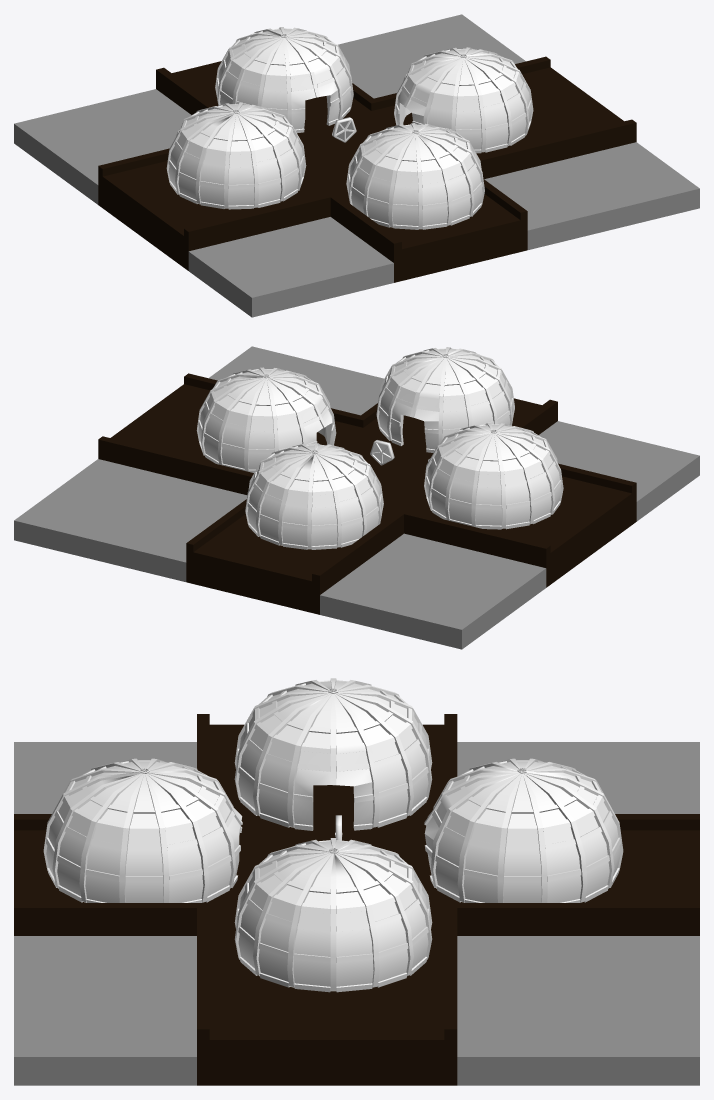
File: whole_map.fbx
The picture shows the model from 3 angles, top to bottom: view 1: azimuth 30°, elevation 25°; view 2: azimuth 150°, elevation 25°; view 3: azimuth 270°, elevation 25°; orthographic projection. The views are drawn at different scales.
Parts seen in each view (by area): view 1: Box002, Bidome_Field003, Bidome_Field001, Bidome_Field002, Bidome_Field; view 2: Box002, Bidome_Field003, Bidome_Field, Bidome_Field002, Bidome_Field001; view 3: Box002, Bidome_Field002, Bidome_Field001, Bidome_Field, Bidome_Field003.
Boxes of the visible parts, bbox=[...] form: Box002: bbox=[14, 14, 699, 317]; Bidome_Field003: bbox=[166, 103, 306, 209]; Bidome_Field001: bbox=[346, 123, 484, 229]; Bidome_Field002: bbox=[394, 47, 533, 153]; Bidome_Field: bbox=[215, 27, 353, 133]; Box002: bbox=[14, 346, 699, 649]; Bidome_Field003: bbox=[424, 423, 563, 529]; Bidome_Field: bbox=[245, 443, 383, 549]; Bidome_Field002: bbox=[196, 367, 336, 472]; Bidome_Field001: bbox=[376, 347, 514, 452]; Box002: bbox=[14, 714, 699, 1085]; Bidome_Field002: bbox=[234, 838, 432, 992]; Bidome_Field001: bbox=[43, 758, 242, 902]; Bidome_Field: bbox=[424, 758, 623, 902]; Bidome_Field003: bbox=[234, 678, 432, 830].
Size of the model in its own units: 12335 by 2690 by 11349.
